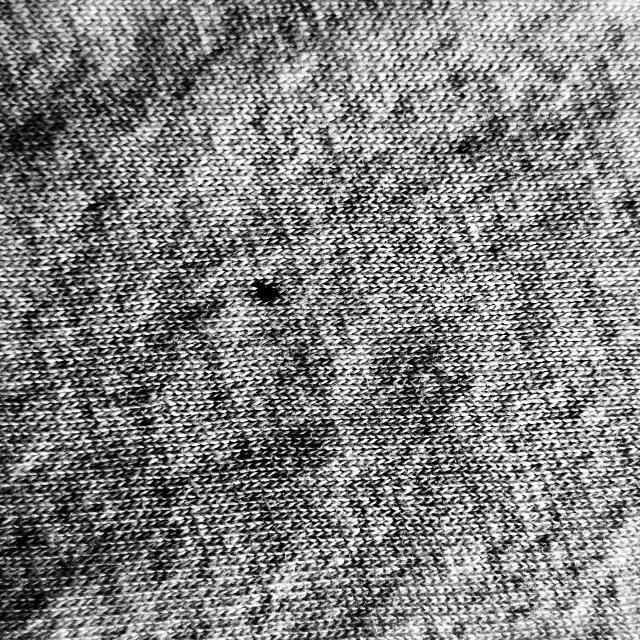Color_defect: (245, 279, 284, 303)
